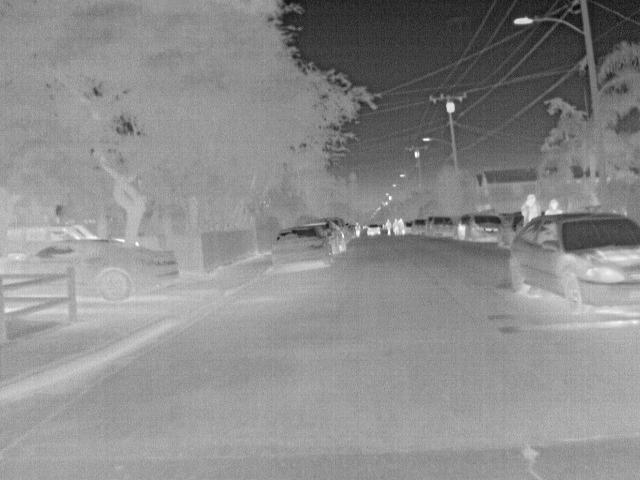car: (506, 212, 639, 312), (3, 238, 178, 268), (75, 268, 180, 302), (271, 223, 333, 270), (4, 222, 102, 242), (301, 219, 346, 254), (497, 211, 524, 248), (464, 215, 502, 241), (330, 215, 353, 240), (431, 216, 458, 235), (410, 220, 427, 236), (366, 223, 384, 237)
person: (523, 193, 542, 226), (547, 200, 562, 214), (398, 218, 408, 237), (385, 218, 394, 237), (392, 218, 401, 237), (355, 221, 363, 239)
